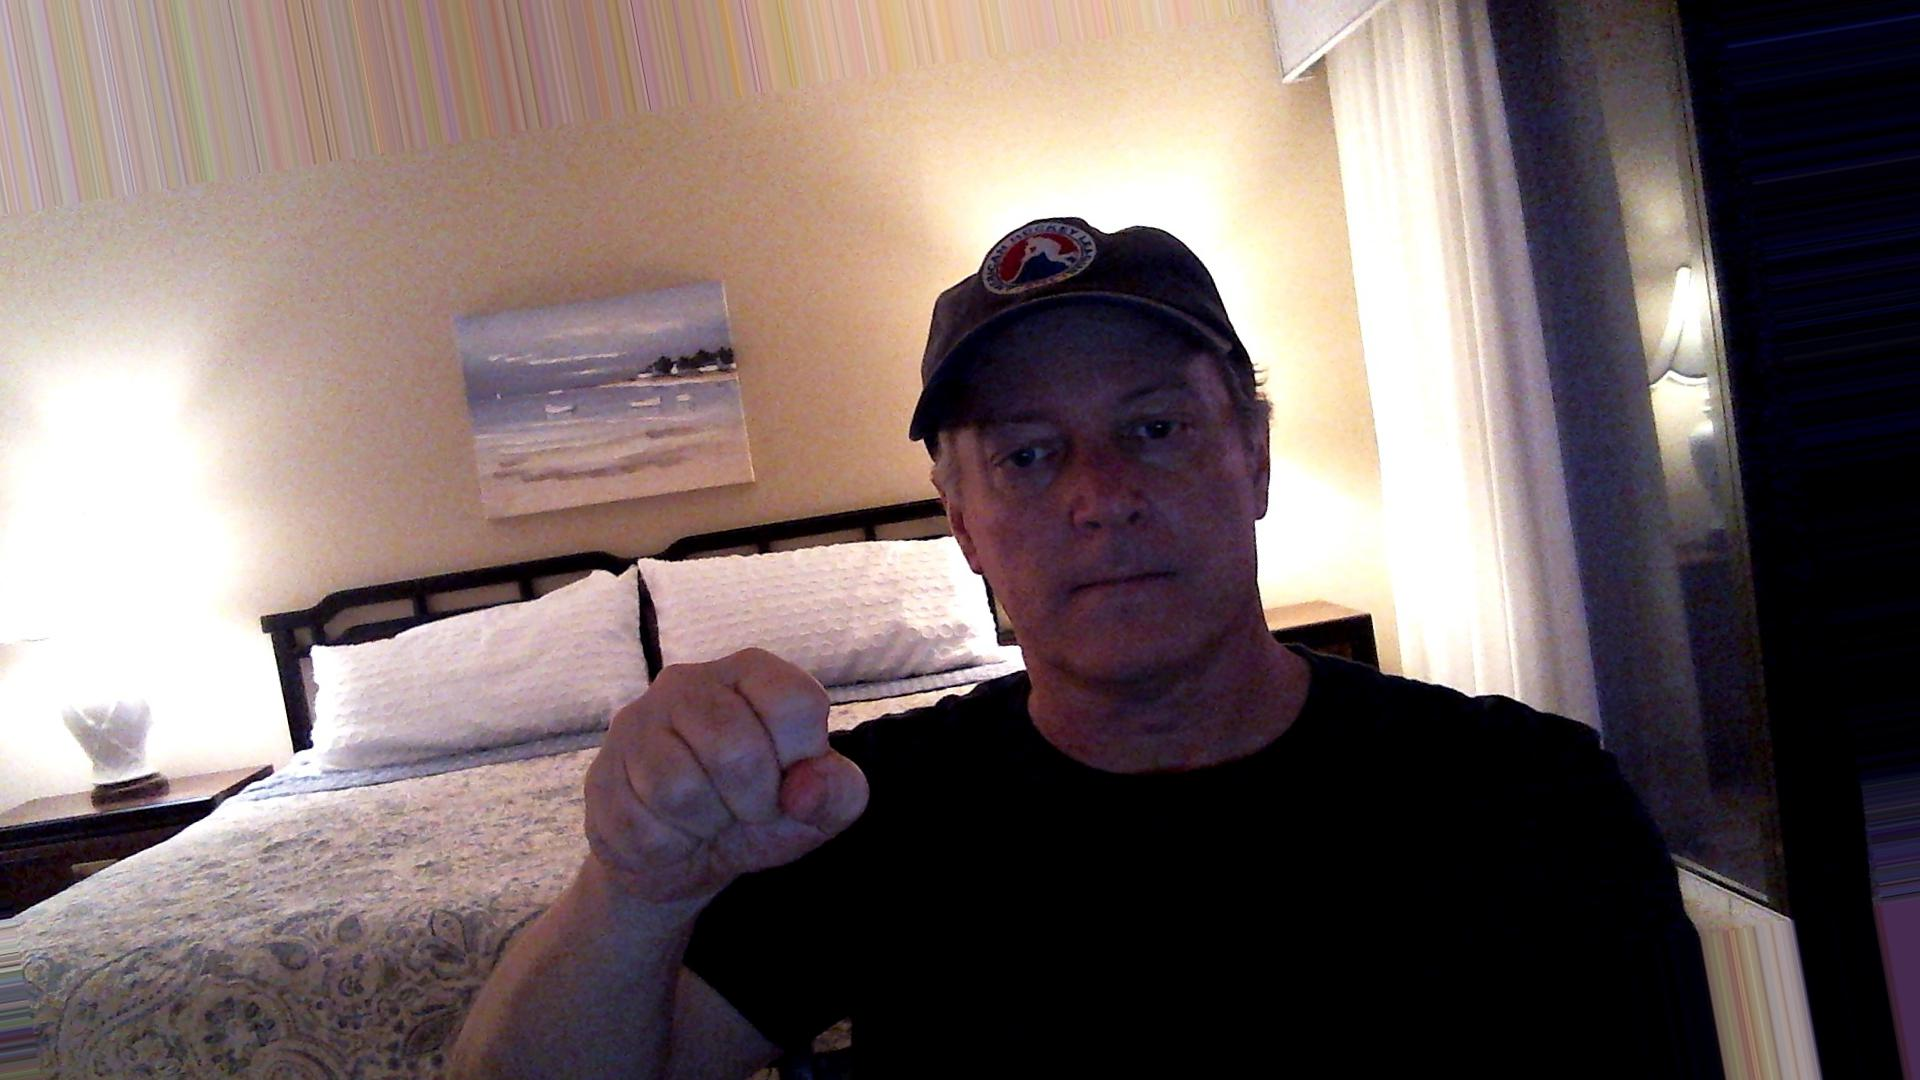Yes: (559, 626, 897, 916)
